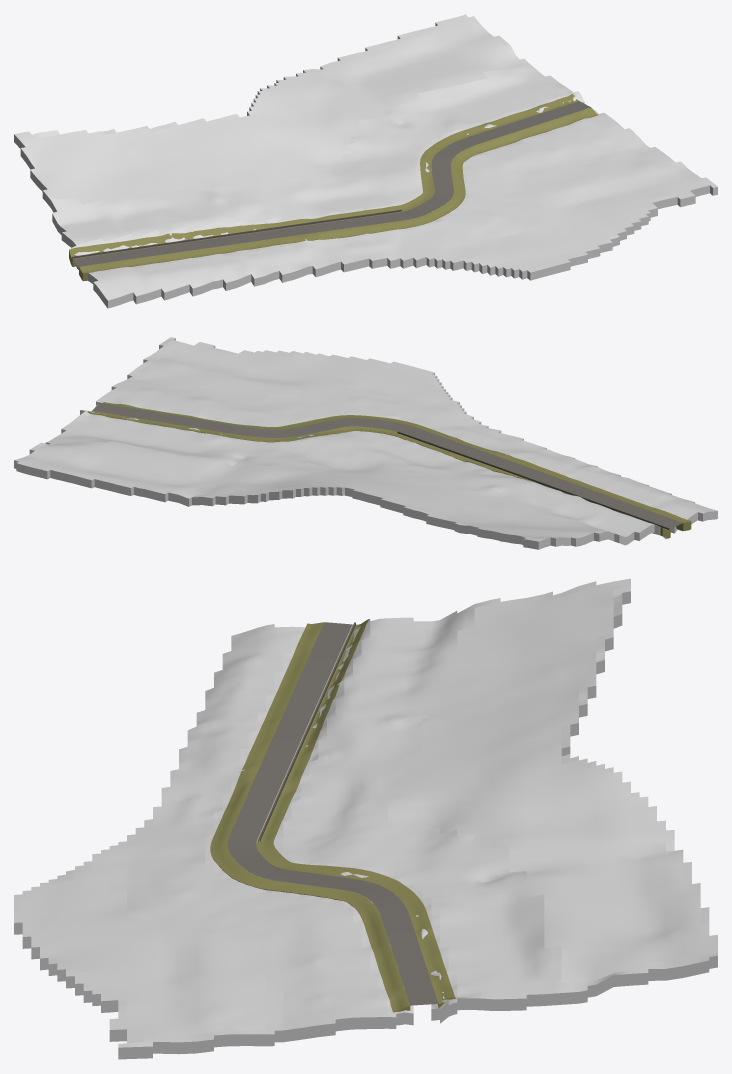
The model's file is conz_99.glb.
The picture shows the model from 3 angles, top to bottom: view 1: azimuth 30°, elevation 25°; view 2: azimuth 150°, elevation 25°; view 3: azimuth 270°, elevation 25°; orthographic projection. The views are drawn at different scales.
Visible parts, largest first — view 1: terrain99, road99, verge99L, verge99R, posts_swall99_130345; view 2: terrain99, road99, verge99L, verge99R, posts_swall99_130345; view 3: terrain99, road99, verge99L, verge99R.
Part boxes in pixels (x1,y1,x2,y2): terrain99: (14, 14, 717, 308); road99: (73, 101, 590, 266); verge99L: (79, 107, 598, 281); verge99R: (69, 94, 578, 266); posts_swall99_130345: (72, 209, 401, 258); terrain99: (14, 337, 717, 549); road99: (92, 403, 682, 529); verge99L: (100, 402, 691, 530); verge99R: (87, 411, 670, 538); posts_swall99_130345: (397, 431, 669, 529); terrain99: (14, 578, 717, 1059); road99: (227, 622, 438, 1005); verge99L: (210, 622, 410, 1012); verge99R: (256, 619, 455, 1007).
Bounding box in the file's own units: 226 × 26.47 × 162.
